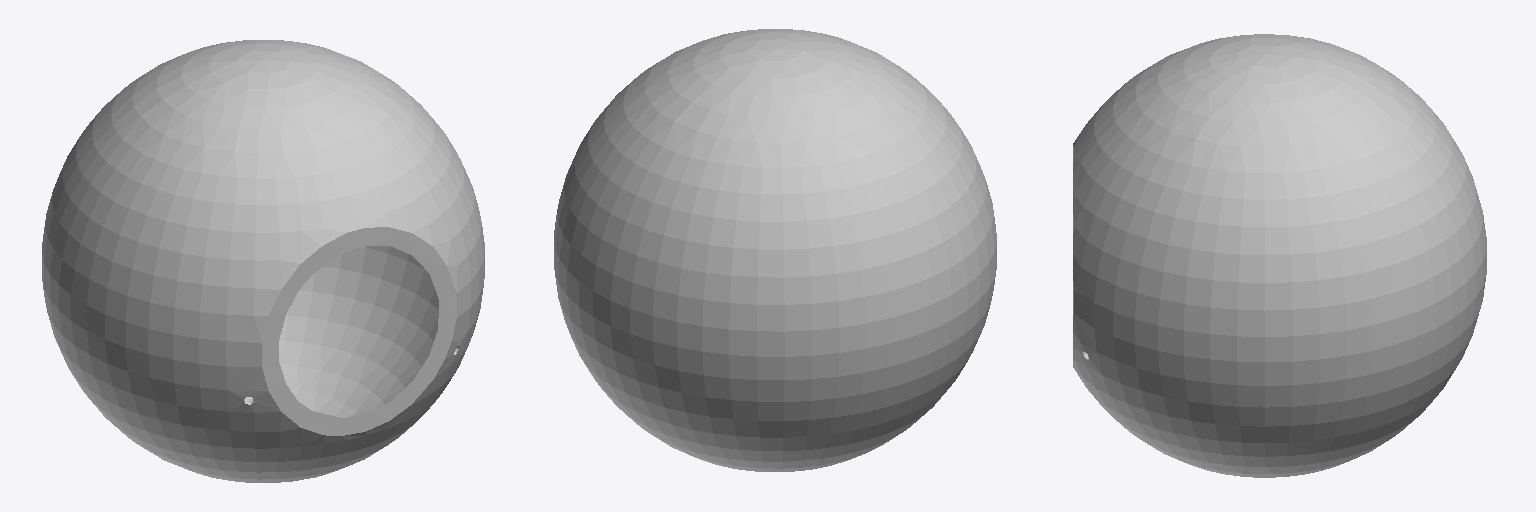
The model's file is eye_white.obj.
3 renders of one model, left to right at view 1: azimuth 30°, elevation 25°; view 2: azimuth 150°, elevation 25°; view 3: azimuth 270°, elevation 25°, orthographic.
Parts seen in each view (by area): view 1: default; view 2: default; view 3: default.
Boxes of the visible parts, x1,y1,x2,y2 form: default: [42, 40, 484, 482]; default: [554, 29, 996, 471]; default: [1073, 34, 1486, 477].
Size of the model in its own units: 23.95 by 24 by 22.3.